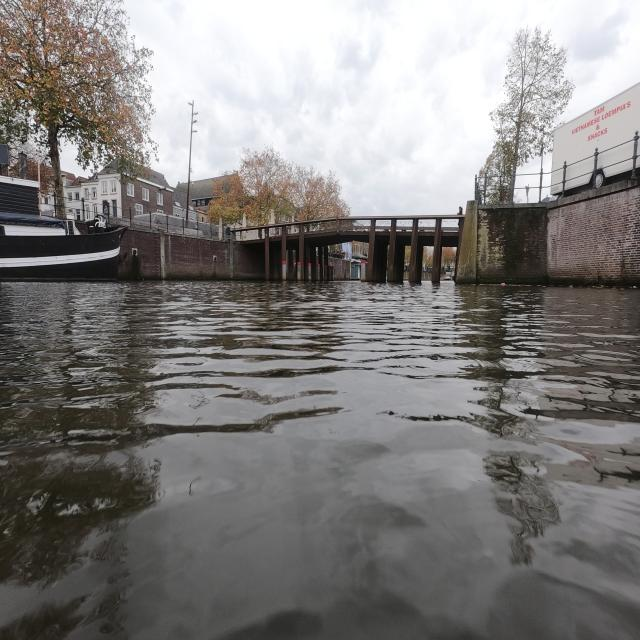boat: (2, 238, 128, 278)
sky: (124, 4, 628, 212)
tree: (2, 2, 168, 214), (208, 142, 348, 228)
wall: (458, 170, 638, 286), (132, 230, 262, 274)
water: (4, 290, 638, 634)
